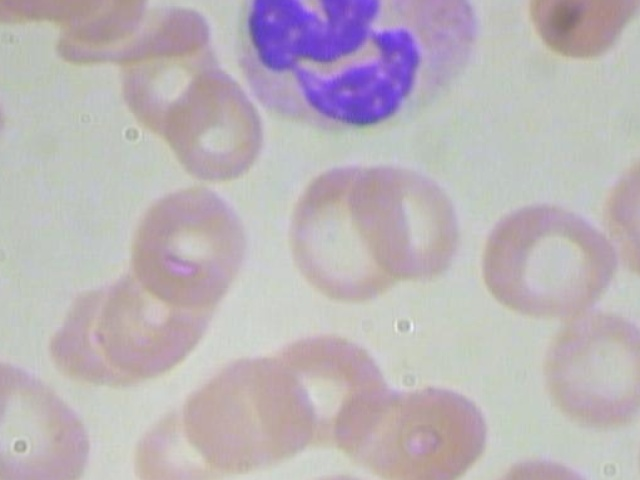RBC: (278, 156, 409, 314), (476, 186, 624, 324), (175, 351, 334, 474), (121, 177, 260, 313), (340, 159, 468, 286), (532, 308, 640, 428), (159, 69, 271, 179), (0, 352, 93, 480), (520, 0, 633, 58), (0, 54, 14, 173), (0, 321, 1, 442)
WBC: (216, 0, 498, 134)
